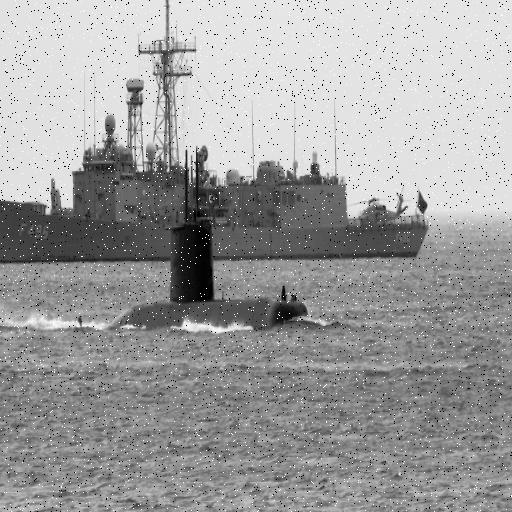submarine: (88, 156, 314, 336)
